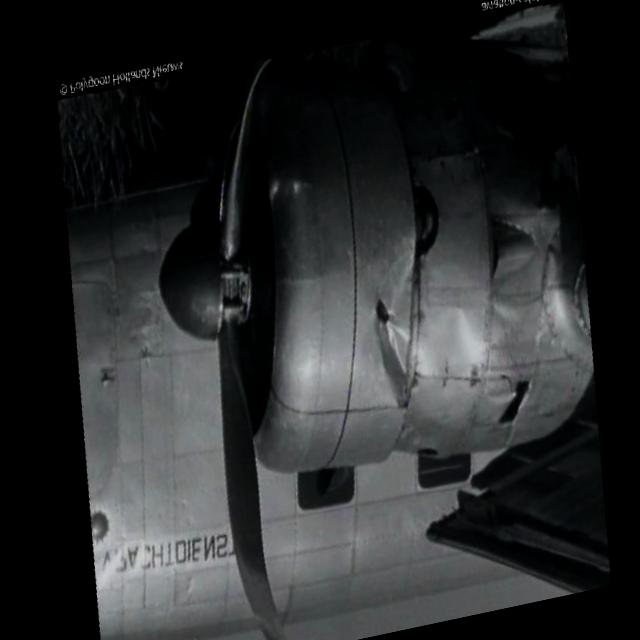dent: (354, 293, 422, 386)
